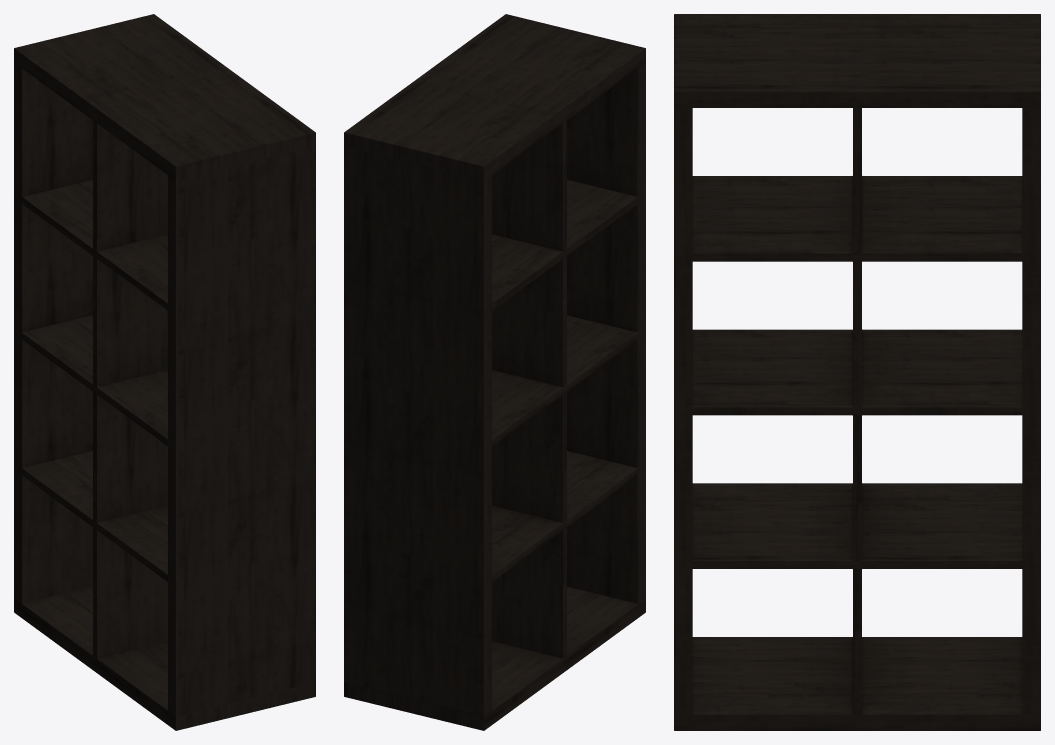
Rendered from bookshelf.obj.
The picture shows the model from 3 angles, left to right: view 1: azimuth 30°, elevation 25°; view 2: azimuth 150°, elevation 25°; view 3: azimuth 270°, elevation 25°; orthographic projection. The views are drawn at different scales.
Visible parts, largest first — view 1: SM_MERGED_SM_Shelving_7; view 2: SM_MERGED_SM_Shelving_7; view 3: SM_MERGED_SM_Shelving_7.
Part boxes in pixels (bbox=[...]): SM_MERGED_SM_Shelving_7: bbox=[14, 14, 315, 730]; SM_MERGED_SM_Shelving_7: bbox=[344, 14, 645, 730]; SM_MERGED_SM_Shelving_7: bbox=[674, 14, 1040, 730].
Bounding box in the file's own units: 0.4002 × 1.54 × 0.8002.
Materials: 1 (1 with a texture image).
